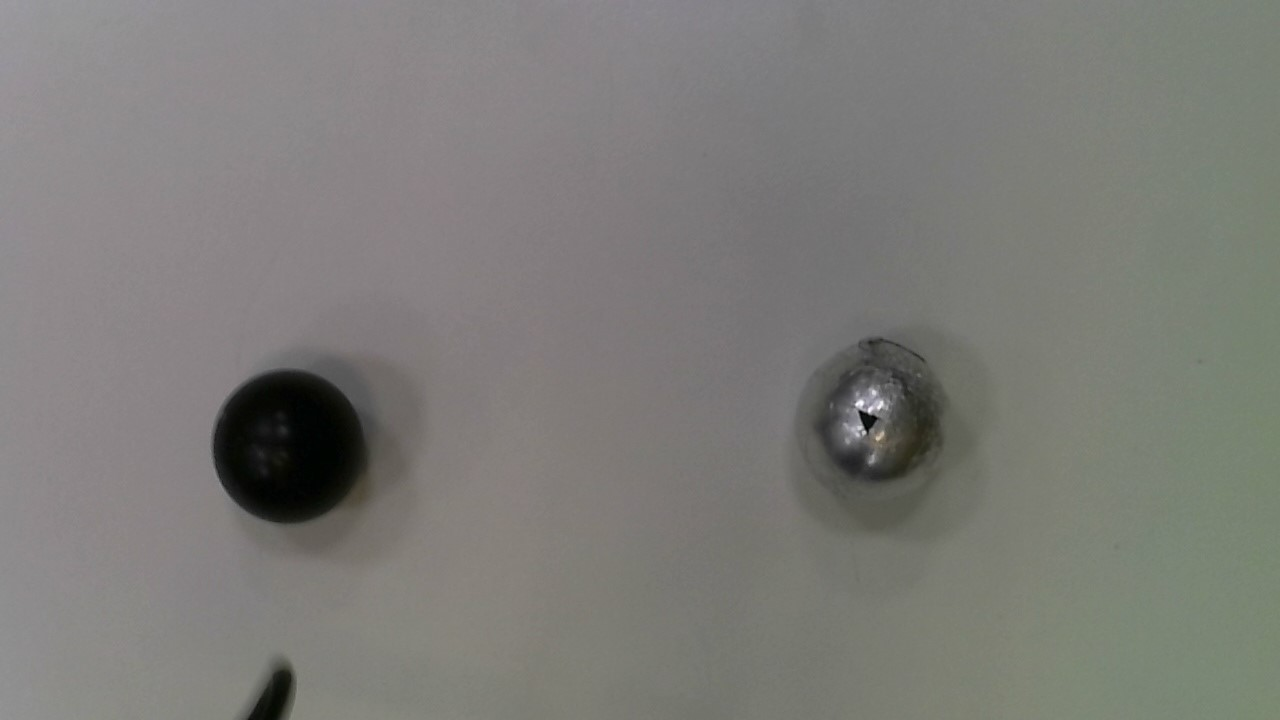black_ball: (205, 369, 370, 529)
silver_ball: (788, 334, 952, 511)
